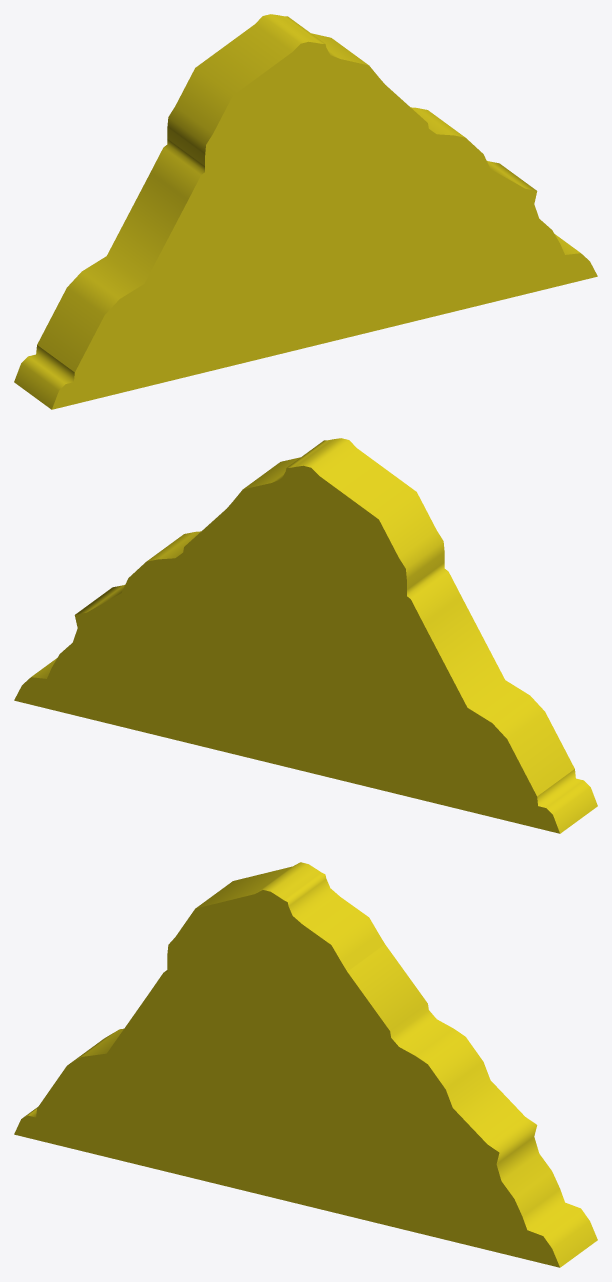
File: mountain.obj
3 renders of one model, top to bottom at view 1: azimuth 30°, elevation 25°; view 2: azimuth 150°, elevation 25°; view 3: azimuth 330°, elevation 25°, orthographic.
Visible parts, largest first — view 1: Layer0_001; view 2: Layer0_001; view 3: Layer0_001.
Part boxes in pixels (x1,y1,x2,y2): Layer0_001: [14, 14, 597, 409]; Layer0_001: [14, 438, 597, 833]; Layer0_001: [14, 862, 597, 1267].
Bounding box in the file's own units: 3.08 × 1.65 × 0.3694.
